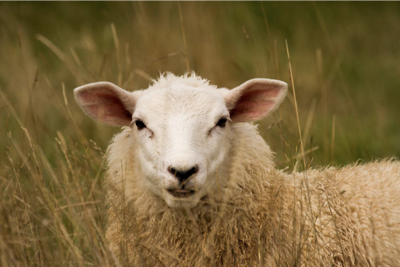koyun: (72, 70, 289, 261)
